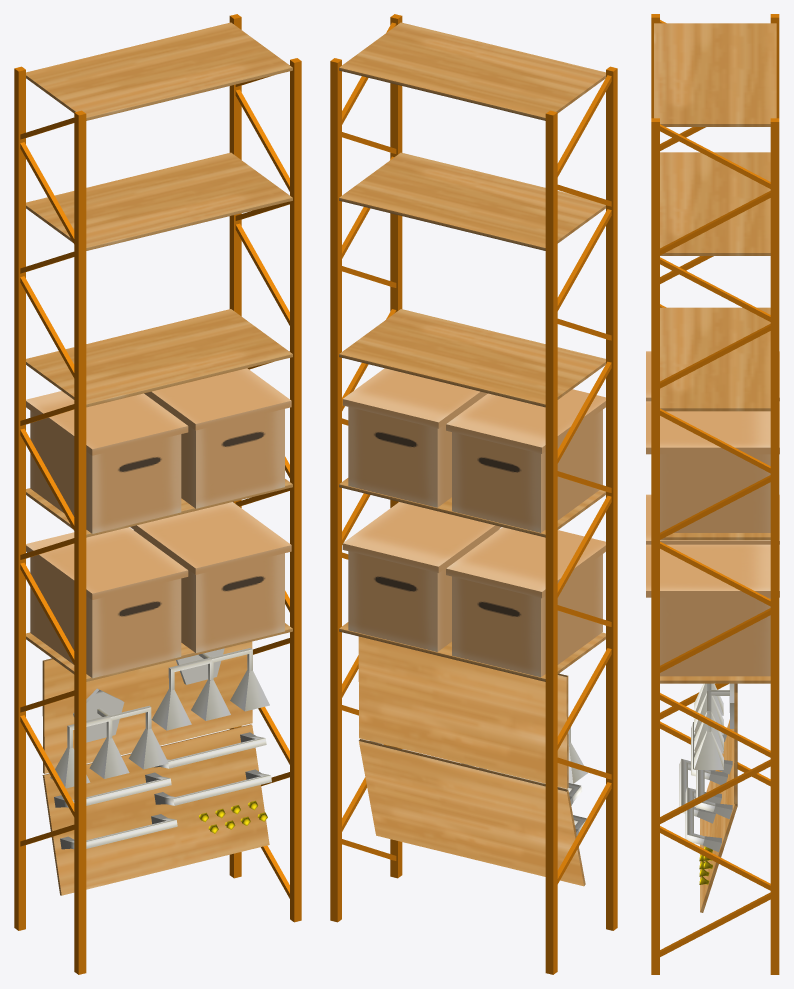
File: Bathroom_Rack.fbx
The picture shows the model from 3 angles, left to right: view 1: azimuth 30°, elevation 25°; view 2: azimuth 150°, elevation 25°; view 3: azimuth 270°, elevation 25°; orthographic projection.
Visible parts, largest first — view 1: Bathroom_Rack; view 2: Bathroom_Rack; view 3: Bathroom_Rack.
Boxes of the visible parts, x1,y1,x2,y2 form: Bathroom_Rack: (14,14,301,974); Bathroom_Rack: (330,14,617,974); Bathroom_Rack: (646,14,779,974).
Bounding box in the file's own units: 200 × 737 × 105.
